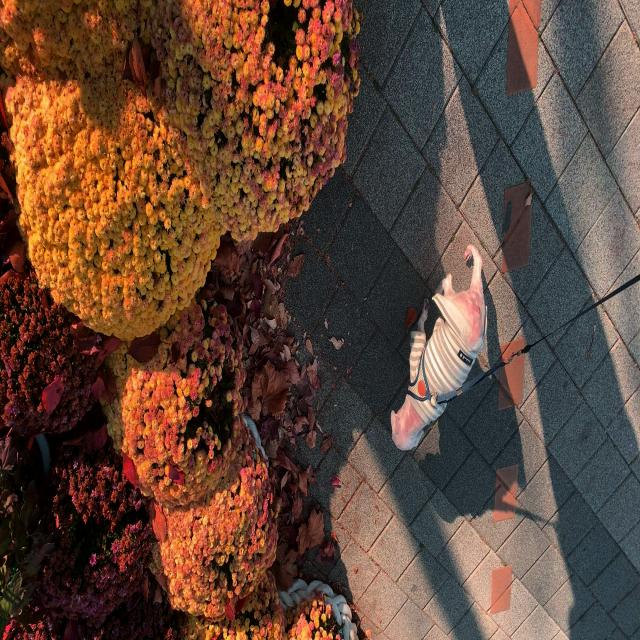Dog: (151, 186, 251, 400)
